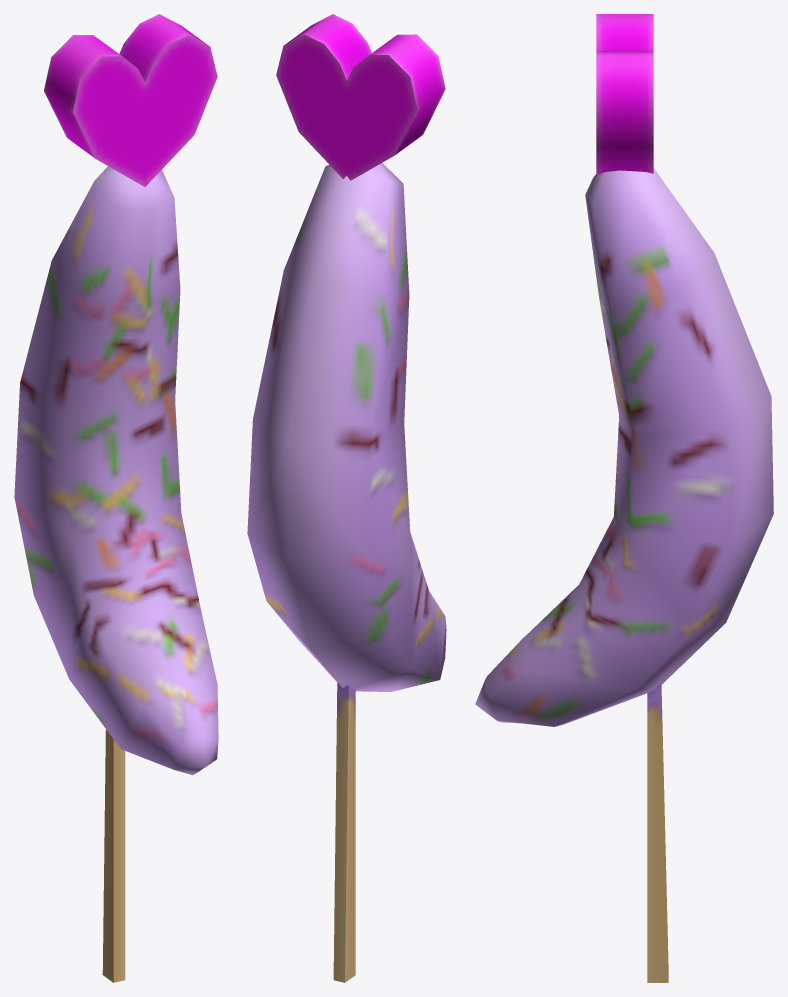
The model's file is jsf_ChocolateBanana_a05_c04.fbx.
The picture shows the model from 3 angles, left to right: view 1: azimuth 30°, elevation 25°; view 2: azimuth 150°, elevation 25°; view 3: azimuth 270°, elevation 25°; orthographic projection. The views are drawn at different scales.
Parts seen in each view (by area): view 1: jsf_ChocolateBanana_a05_c04; view 2: jsf_ChocolateBanana_a05_c04; view 3: jsf_ChocolateBanana_a05_c04.
Part boxes in pixels (x1,y1,x2,y2): jsf_ChocolateBanana_a05_c04: (14, 14, 218, 982); jsf_ChocolateBanana_a05_c04: (247, 14, 446, 982); jsf_ChocolateBanana_a05_c04: (475, 14, 773, 982).
Bounding box in the file's own units: 4.34 × 27.32 × 7.83.
